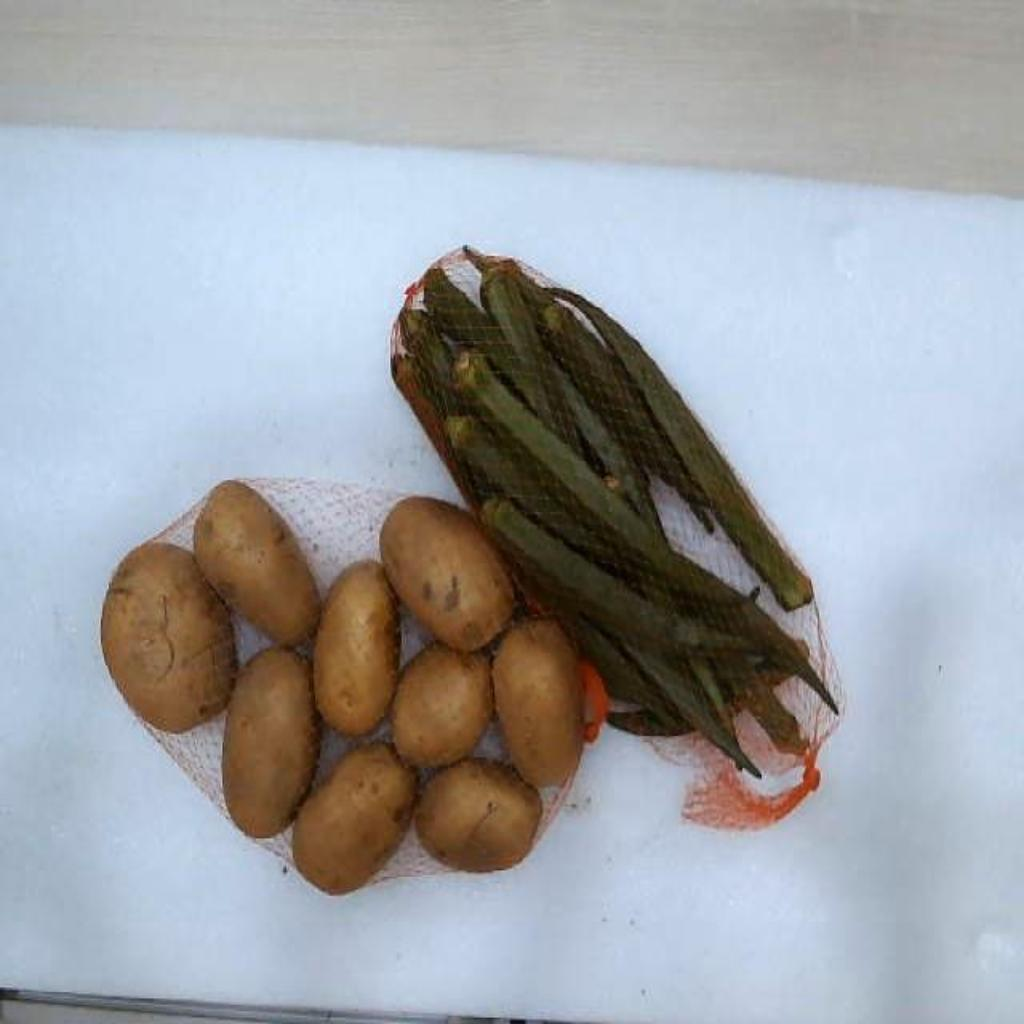potato: (394, 248, 836, 772), (102, 541, 236, 732), (194, 480, 322, 645), (380, 496, 514, 651), (294, 741, 416, 893), (222, 648, 320, 837), (314, 560, 400, 735), (494, 619, 582, 785), (414, 757, 542, 871), (392, 643, 494, 767)
